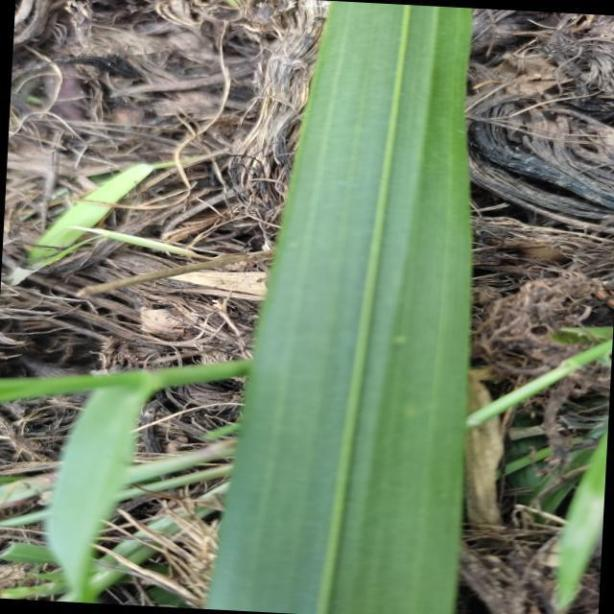Healthy: (205, 0, 470, 614)
